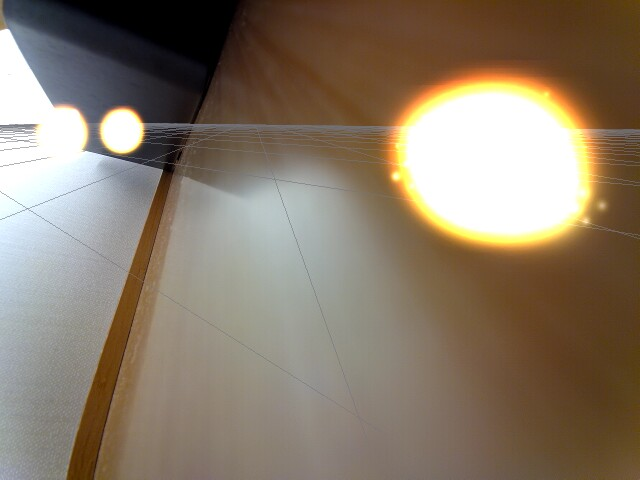firebig: (379, 52, 623, 265)
